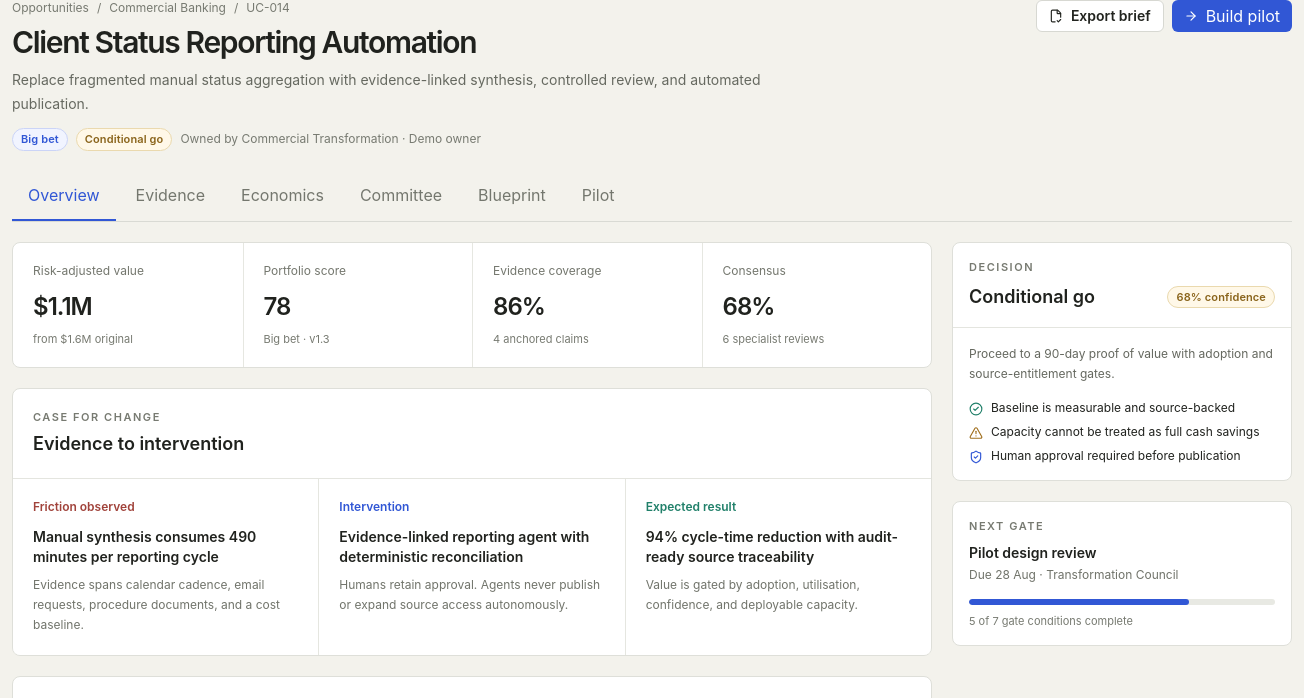
Scenario: UseCaseWorkspace › makes evidence, economics, objections, and the policy-constrained decision inspectable
Expected: the text "Conditional go" is shown, [76,128,172,150]
Expected: the text "$1.1M" is shown, [33,292,92,320]
Click the tab "Committee" at (401, 196), box [344,170,458,220]
(page scrolled)
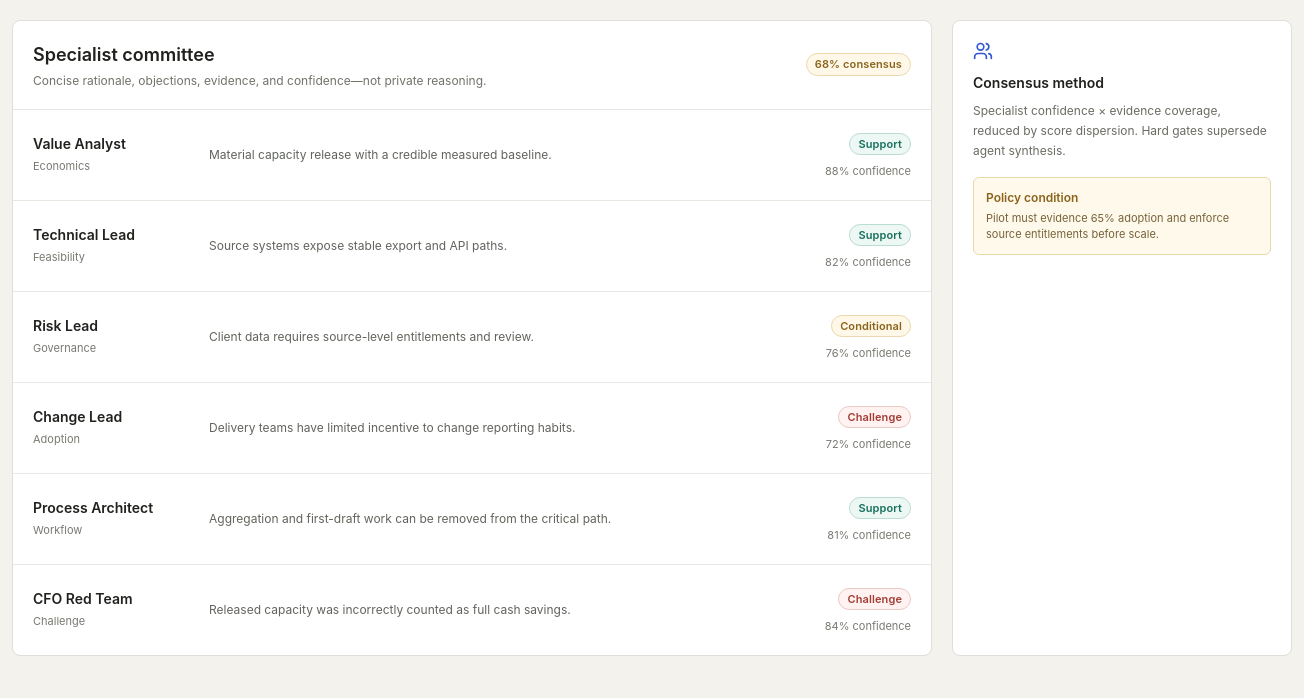
Expected: the text "CFO Red Team" is shown, [33,590,132,607]
Expected: the text "Released capacity was incorrectly counted" is shown, [209,602,571,616]
